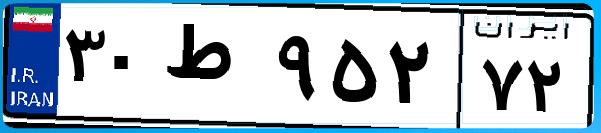0: (110, 28, 158, 98)
2: (385, 28, 445, 110), (525, 38, 570, 115)
3: (57, 26, 110, 100)
5: (330, 28, 385, 110)
7: (475, 38, 525, 113)
9: (270, 28, 330, 110)
ط: (158, 20, 270, 120)
